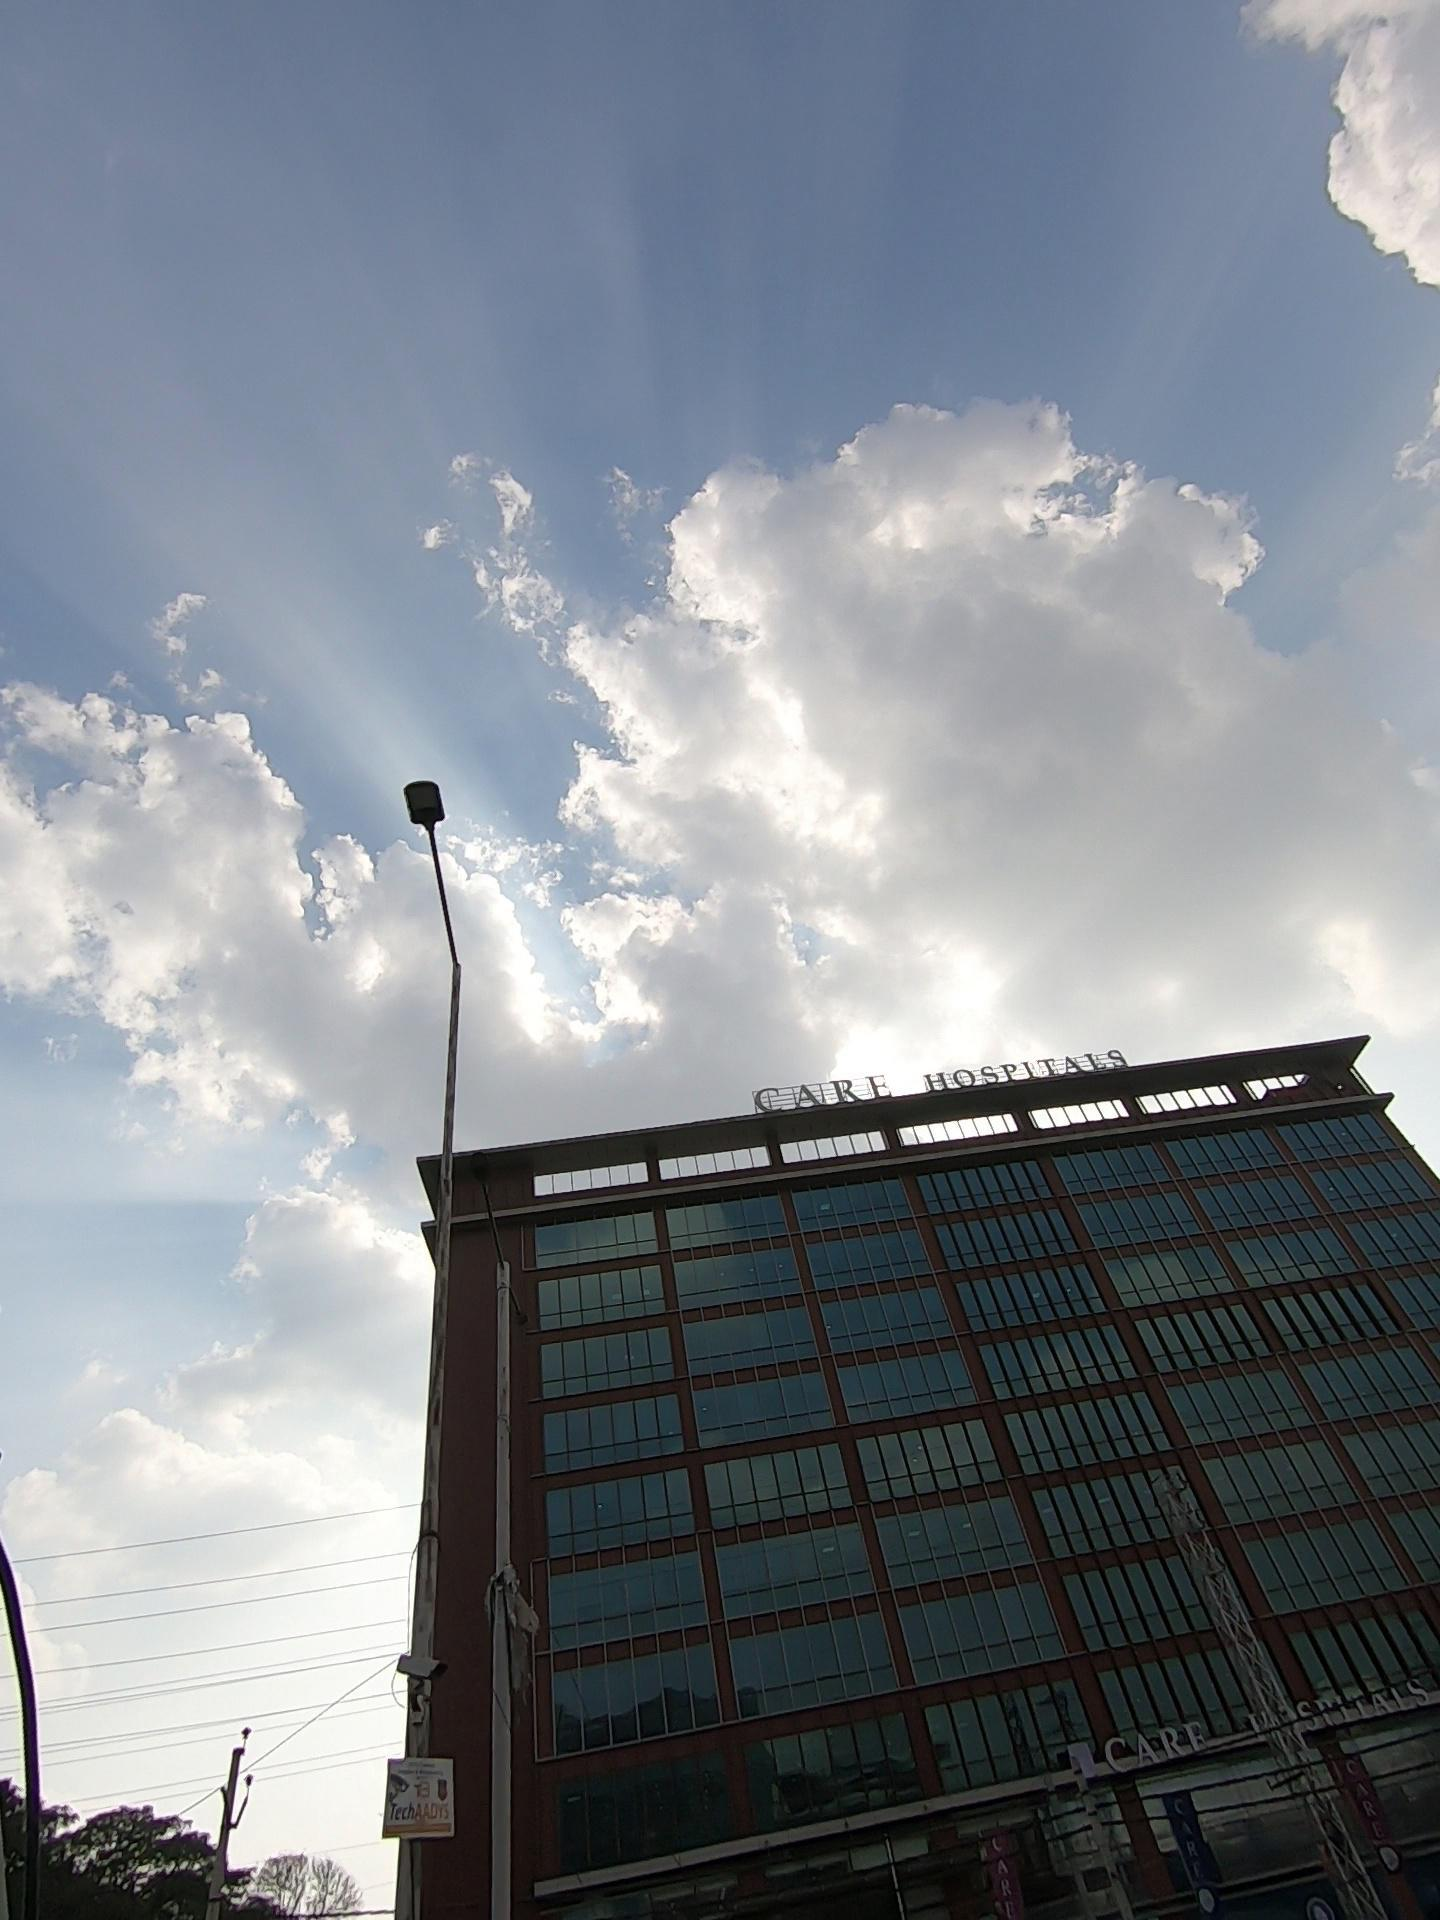off: (345, 751, 564, 1031)
